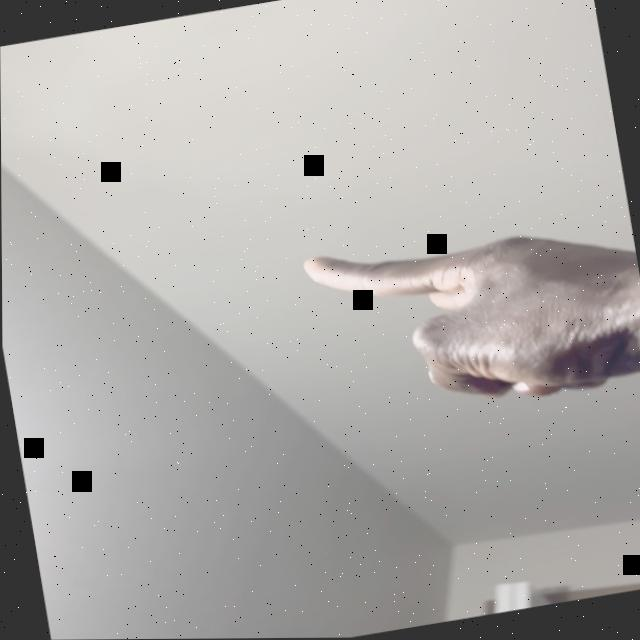Scissors: (299, 201, 640, 430)
